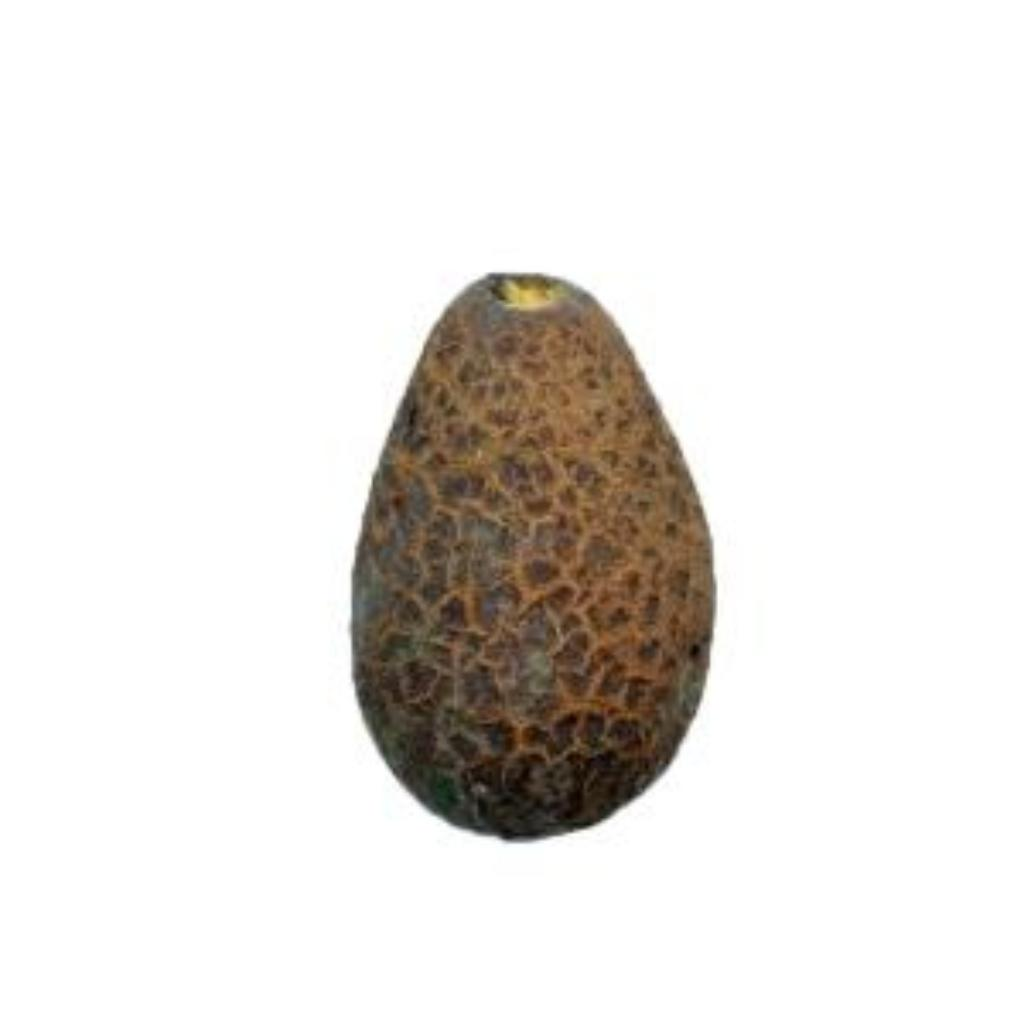cercospora_spot: (338, 251, 726, 845)
